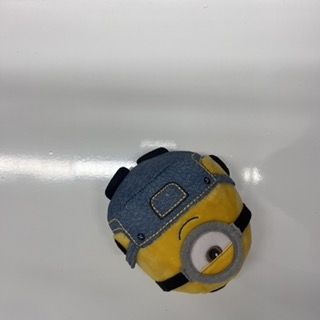minion: (106, 147, 253, 293)
